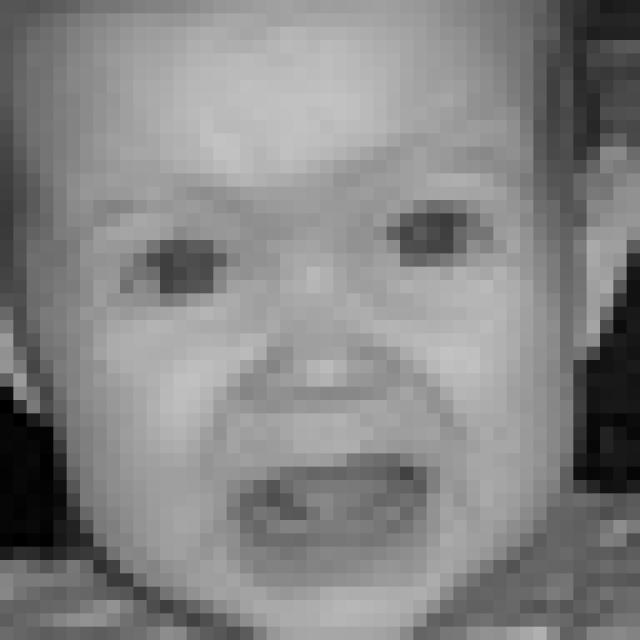fear: (68, 138, 536, 597)
